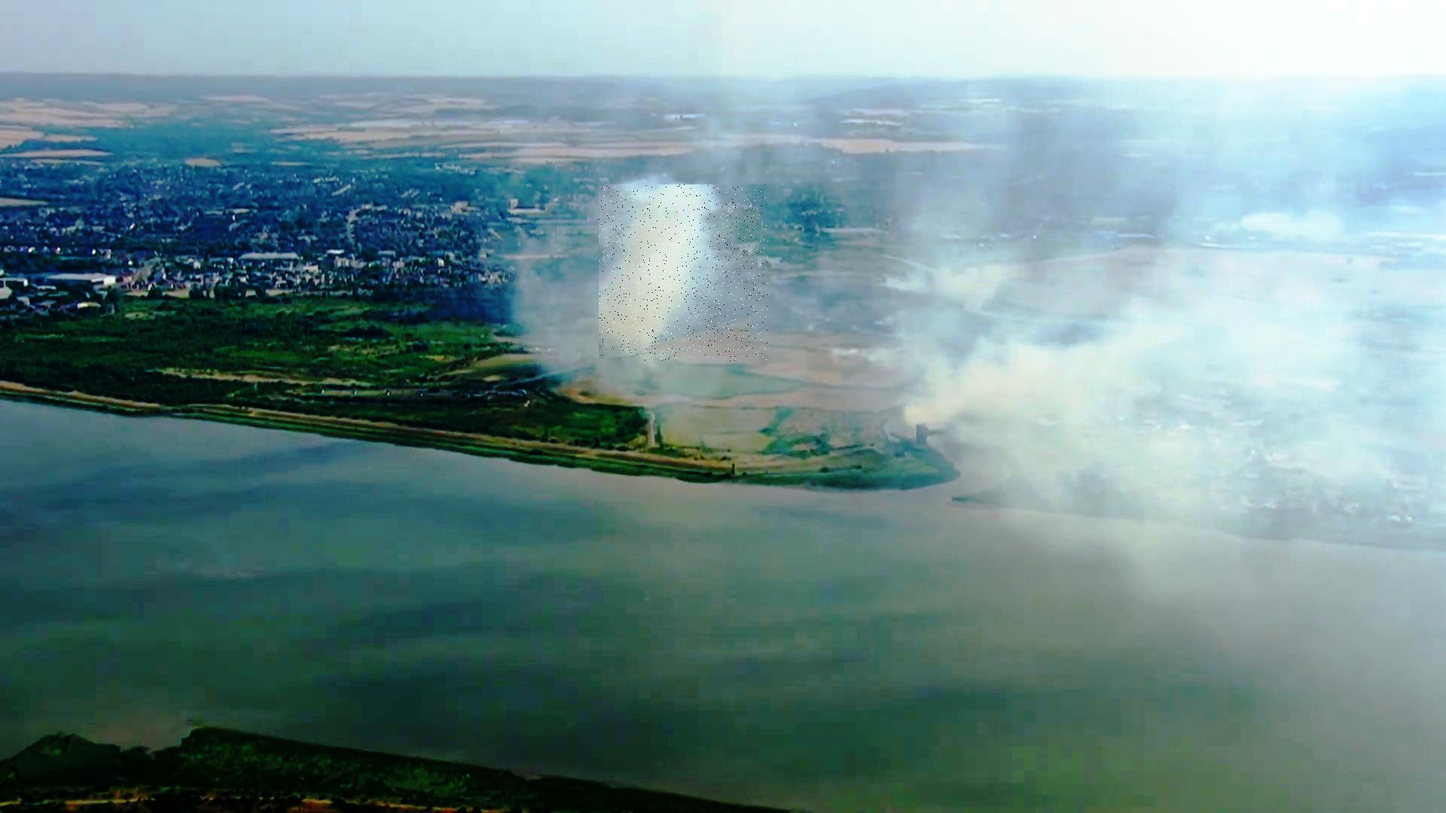fire: (599, 185, 769, 362)
